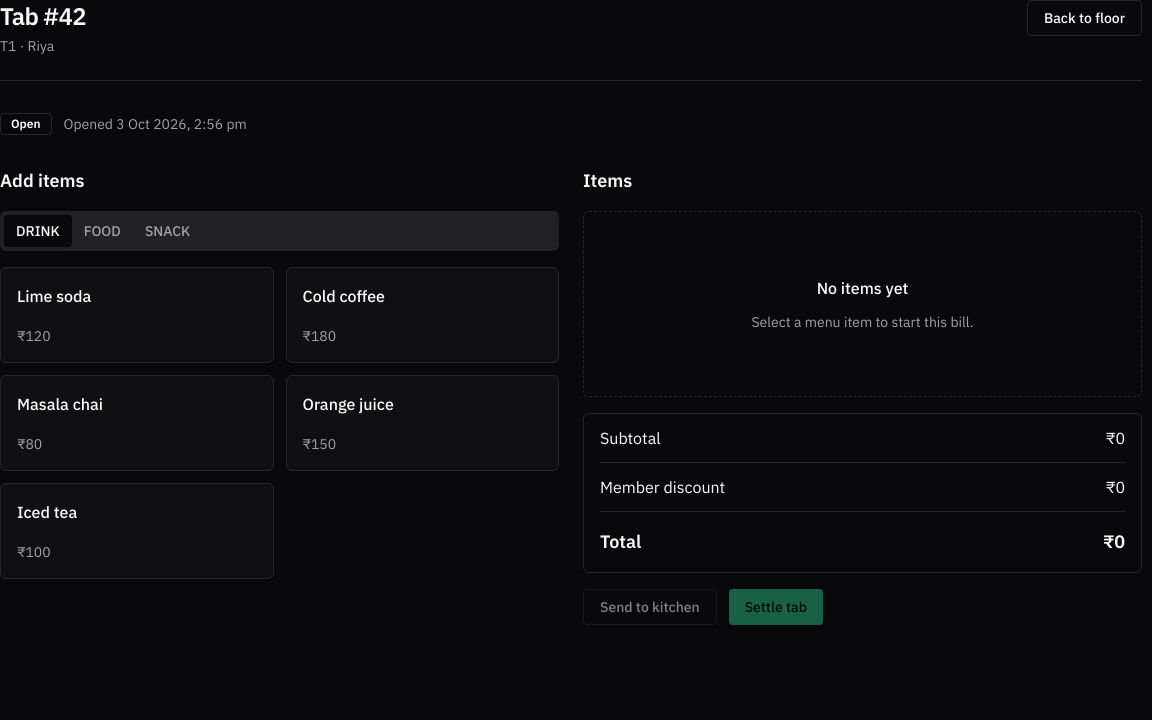
Bar screens › keeps payment details and shows a settlement error for recovery
Step 1. Click the button "Lime soda ₹120" → {"x": 54, "y": 296}, box top-left (0, 267), bottom-right (274, 363)
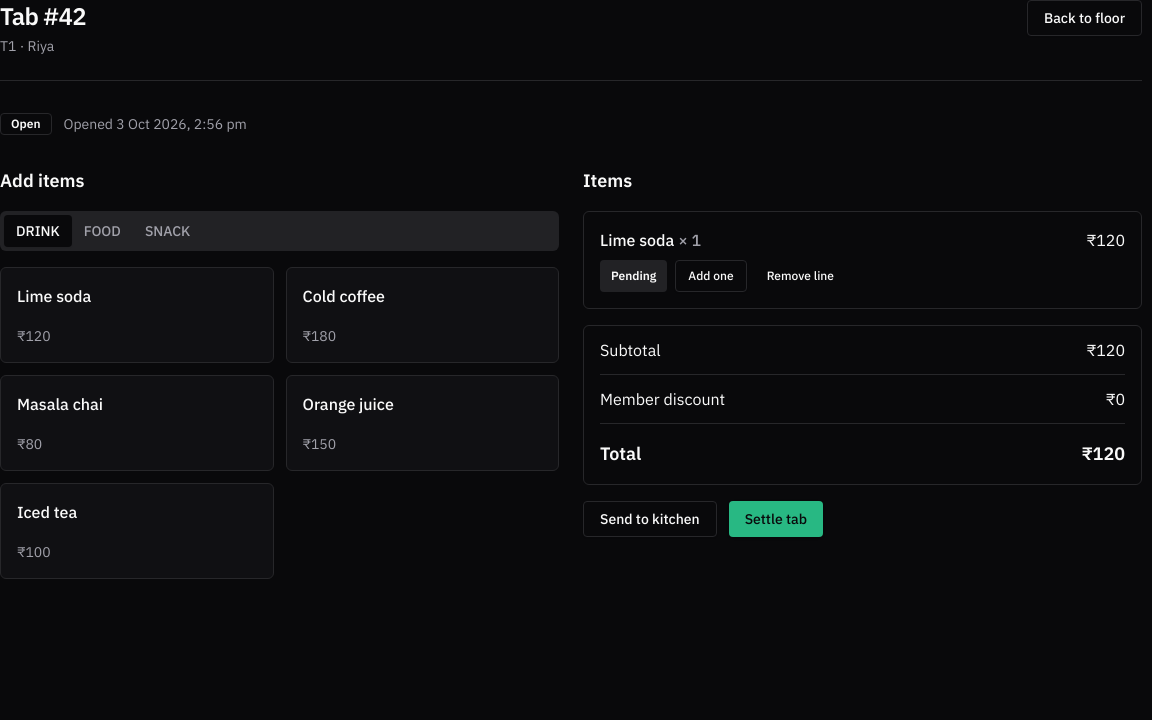
Expected: the button "Settle tab" is enabled
Step 2. Click the button "Settle tab" → {"x": 776, "y": 519}, box top-left (729, 501), bottom-right (823, 537)
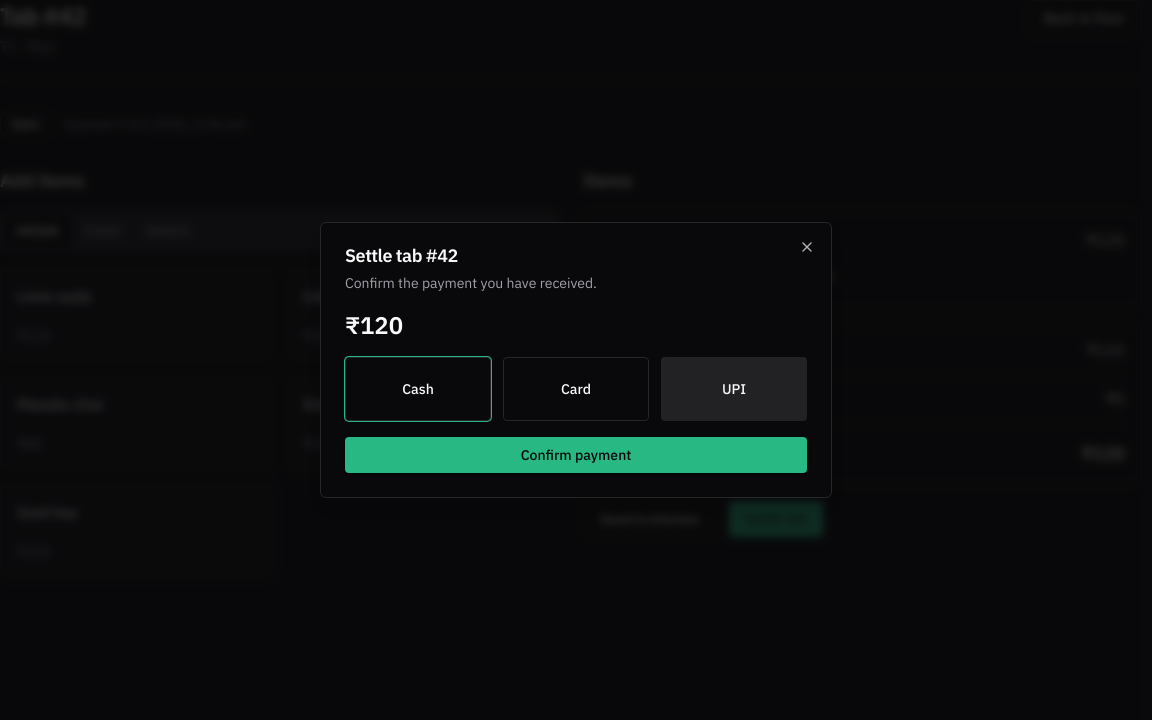
Step 3. Click the button "Confirm payment" → {"x": 576, "y": 455}, box top-left (345, 437), bottom-right (807, 473)
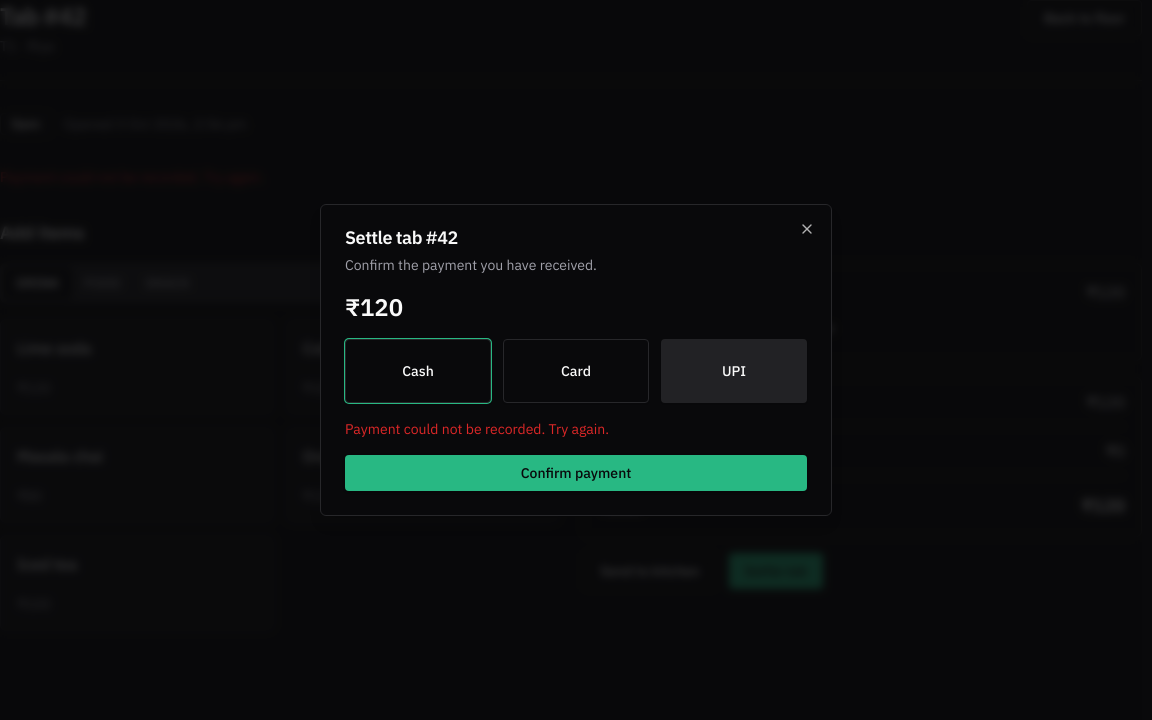
Expected: the button "Confirm payment" is enabled, top-left (345, 455), bottom-right (807, 491)
Expected: the message shows "Payment could not be recorded", top-left (345, 420), bottom-right (609, 438)
